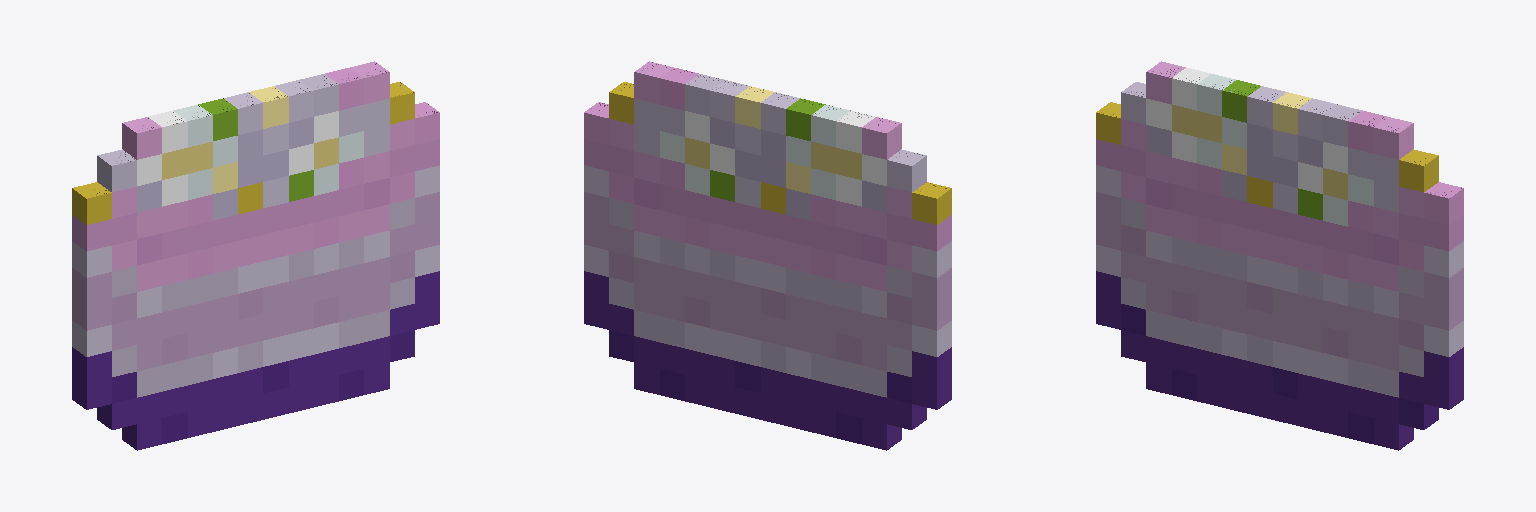
The picture shows the model from 3 angles: view 1: azimuth 30°, elevation 25°; view 2: azimuth 150°, elevation 25°; view 3: azimuth 330°, elevation 25°; orthographic projection.
Bounding box in the file's own units: 0.875 × 0.75 × 0.0625.
1 materials, 1 textured.